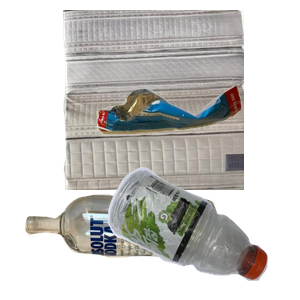glass: (22, 192, 234, 300)
paper: (60, 10, 300, 190)
plastic: (105, 165, 300, 300)
trash: (94, 83, 300, 210)
